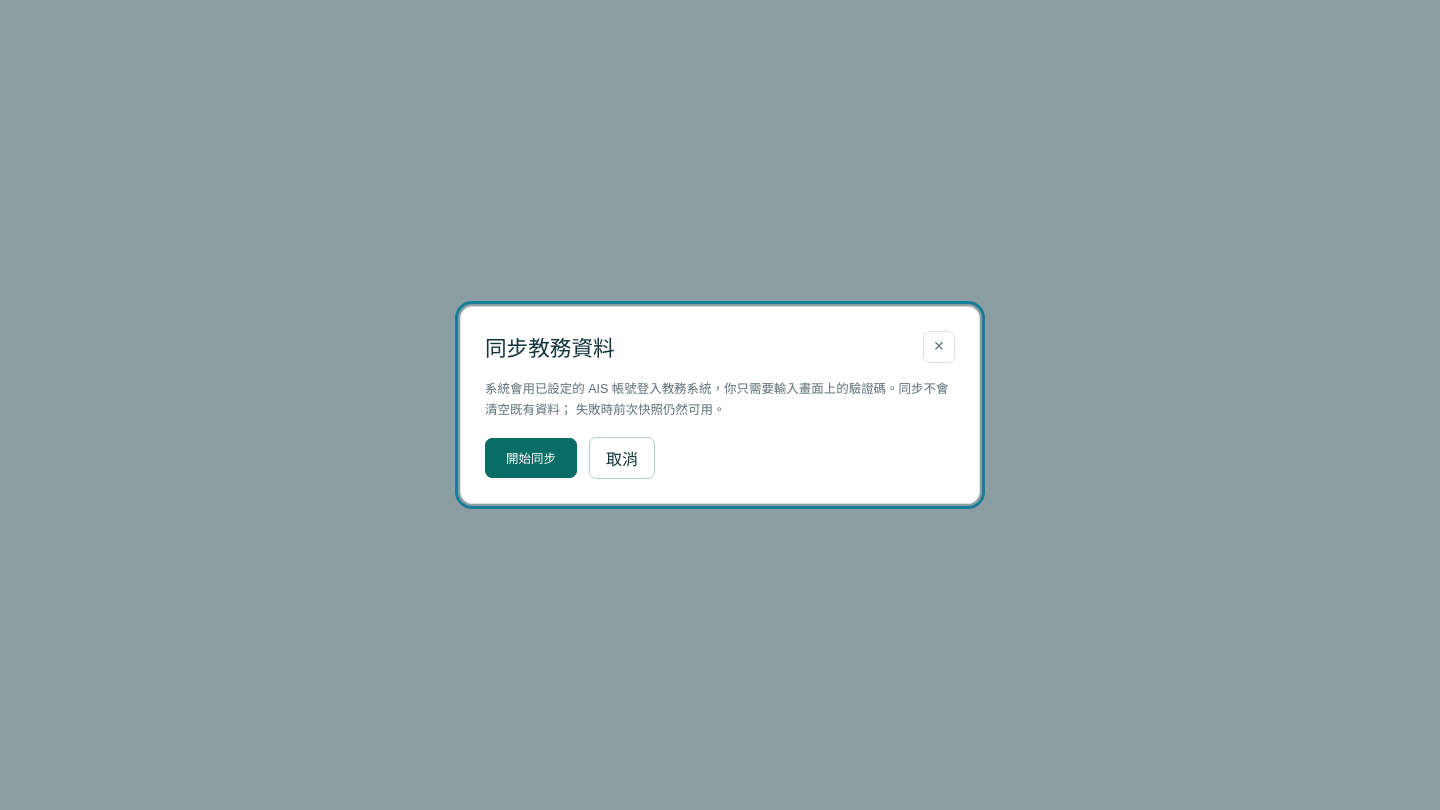
SyncDialog（AIS 同步） › 開始同步失敗時顯示錯誤碼與訊息
This screenshot has width=1440, height=810.
Click the button "開始同步" at (531, 458), box [485,438,577,478]
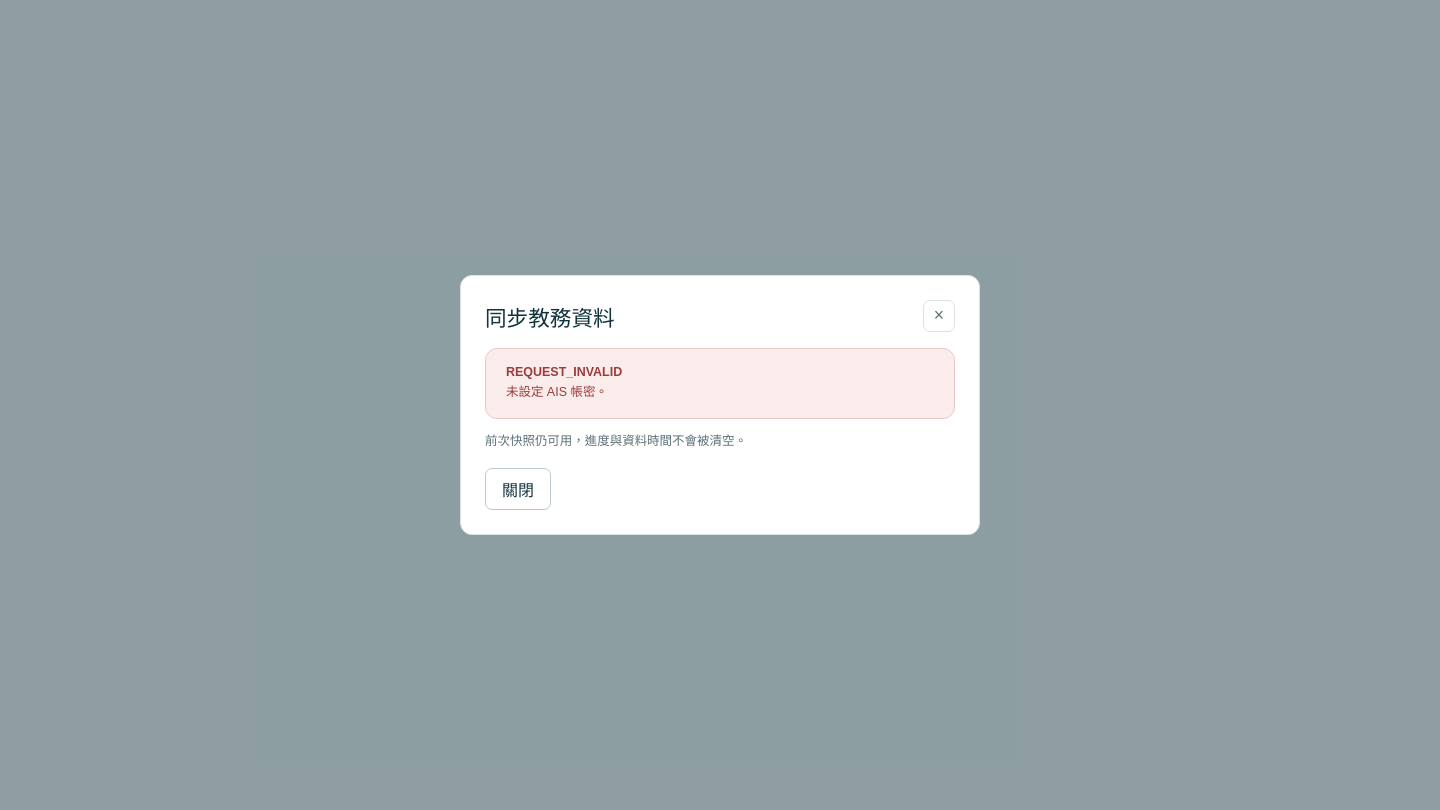
expect the text "REQUEST_INVALID" is shown: met, box [506,365,622,379]
expect the text "未設定 AIS 帳密。" is shown: met, box [506,383,622,402]
